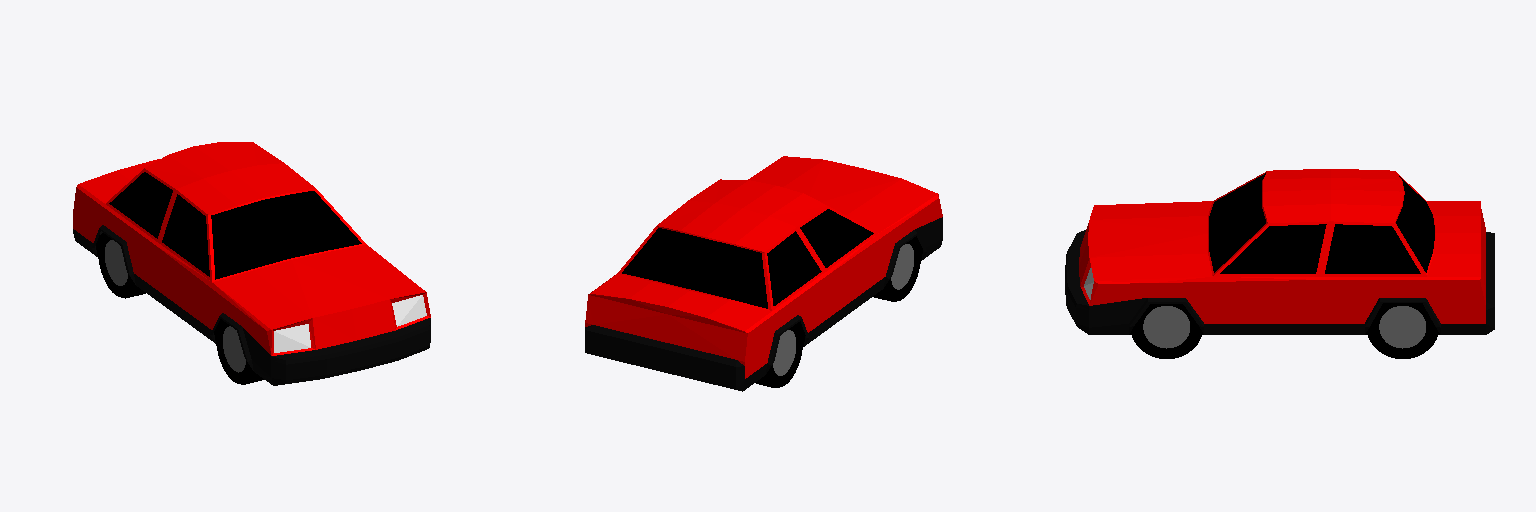
Rendered from Car2.obj.
3 renders of one model, left to right at view 1: azimuth 30°, elevation 25°; view 2: azimuth 150°, elevation 25°; view 3: azimuth 270°, elevation 25°, orthographic.
Parts seen in each view (by area): view 1: Car_Cube_Body, Car_Cube_Window, Car_Cube_Bumpers, Car_Cube_Tires, Car_Cube_Lights, Car_Cube_Wheels, Car_Cube_Black; view 2: Car_Cube_Body, Car_Cube_Window, Car_Cube_Bumpers, Car_Cube_Tires, Car_Cube_Wheels, Car_Cube_Black; view 3: Car_Cube_Body, Car_Cube_Window, Car_Cube_Bumpers, Car_Cube_Wheels, Car_Cube_Tires, Car_Cube_Black.
Boxes of the visible parts, <box> form: Car_Cube_Body: <box>73,142,430,355</box>; Car_Cube_Window: <box>109,172,357,276</box>; Car_Cube_Bumpers: <box>73,225,430,385</box>; Car_Cube_Tires: <box>98,233,263,384</box>; Car_Cube_Lights: <box>274,295,426,352</box>; Car_Cube_Wheels: <box>105,240,245,372</box>; Car_Cube_Black: <box>110,191,361,279</box>; Car_Cube_Body: <box>585,156,942,378</box>; Car_Cube_Window: <box>626,209,873,306</box>; Car_Cube_Bumpers: <box>585,217,942,391</box>; Car_Cube_Tires: <box>755,236,920,387</box>; Car_Cube_Wheels: <box>773,244,913,375</box>; Car_Cube_Black: <box>622,228,872,308</box>; Car_Cube_Body: <box>1079,169,1485,323</box>; Car_Cube_Window: <box>1211,175,1434,273</box>; Car_Cube_Bumpers: <box>1065,230,1494,334</box>; Car_Cube_Wheels: <box>1143,306,1425,348</box>; Car_Cube_Tires: <box>1131,303,1438,358</box>; Car_Cube_Black: <box>1209,173,1434,273</box>.
Size of the model in its own units: 2.1 by 1.59 by 4.67.